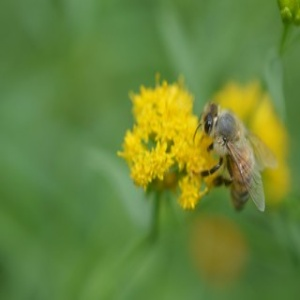bee: (198, 100, 279, 218)
